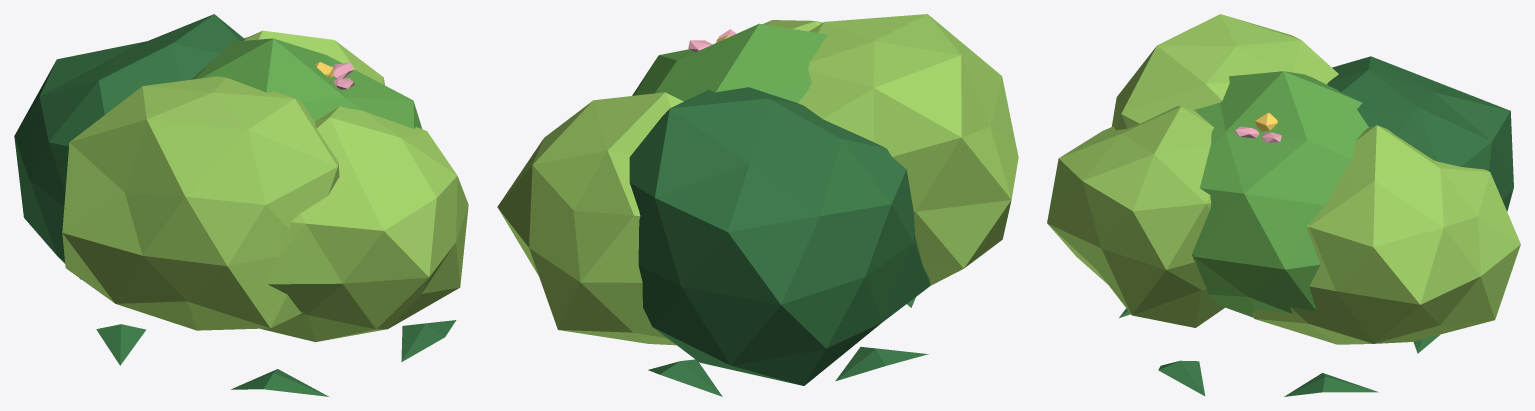
File: flowering_bush.glb
The picture shows the model from 3 angles, left to right: view 1: azimuth 30°, elevation 25°; view 2: azimuth 150°, elevation 25°; view 3: azimuth 270°, elevation 25°; orthographic projection. The views are drawn at different scales.
Parts seen in each view (by area): view 1: Flowering Bush; view 2: Flowering Bush; view 3: Flowering Bush.
Boxes of the visible parts, <box> form: Flowering Bush: <box>14,14,468,396</box>; Flowering Bush: <box>497,14,1018,396</box>; Flowering Bush: <box>1047,14,1520,396</box>.
Size of the model in its own units: 0.931 by 0.638 by 1.02.
Materials: 1 (1 with a texture image).
